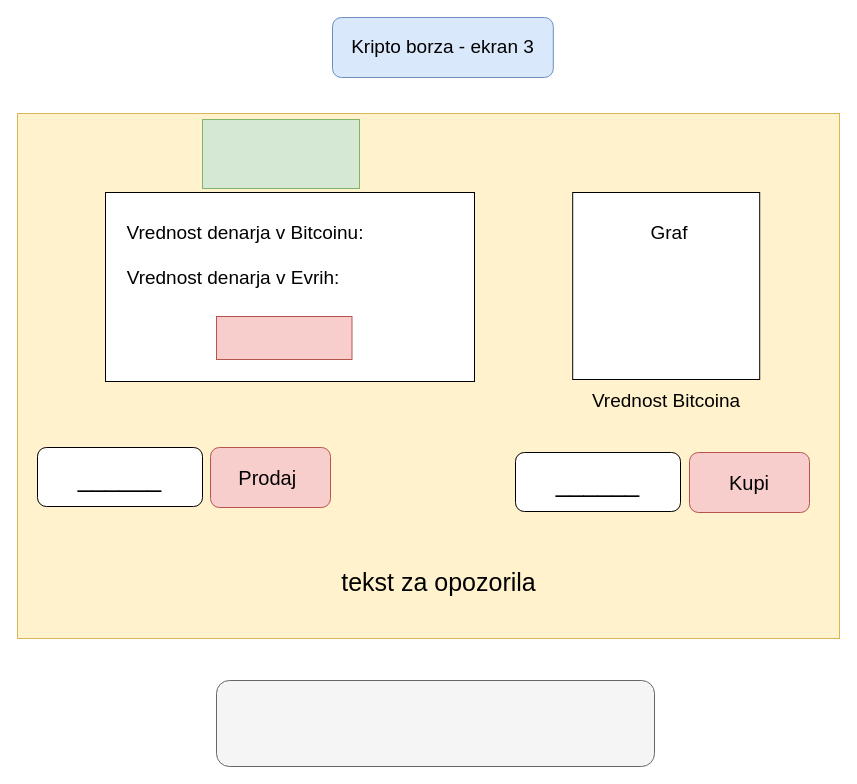
The diagram is 857 pixels wide and 784 high, and some of its shapes have lost their labels. The centre of each missing label's shape, as x and y in pixels:
"Nazaj na hišo" goes at (x=284, y=338).
"Stanje v evrih: 2000$" goes at (x=281, y=153).
"Tukaj lahko igralec zasluži več navideznega denarja" goes at (x=435, y=723).
